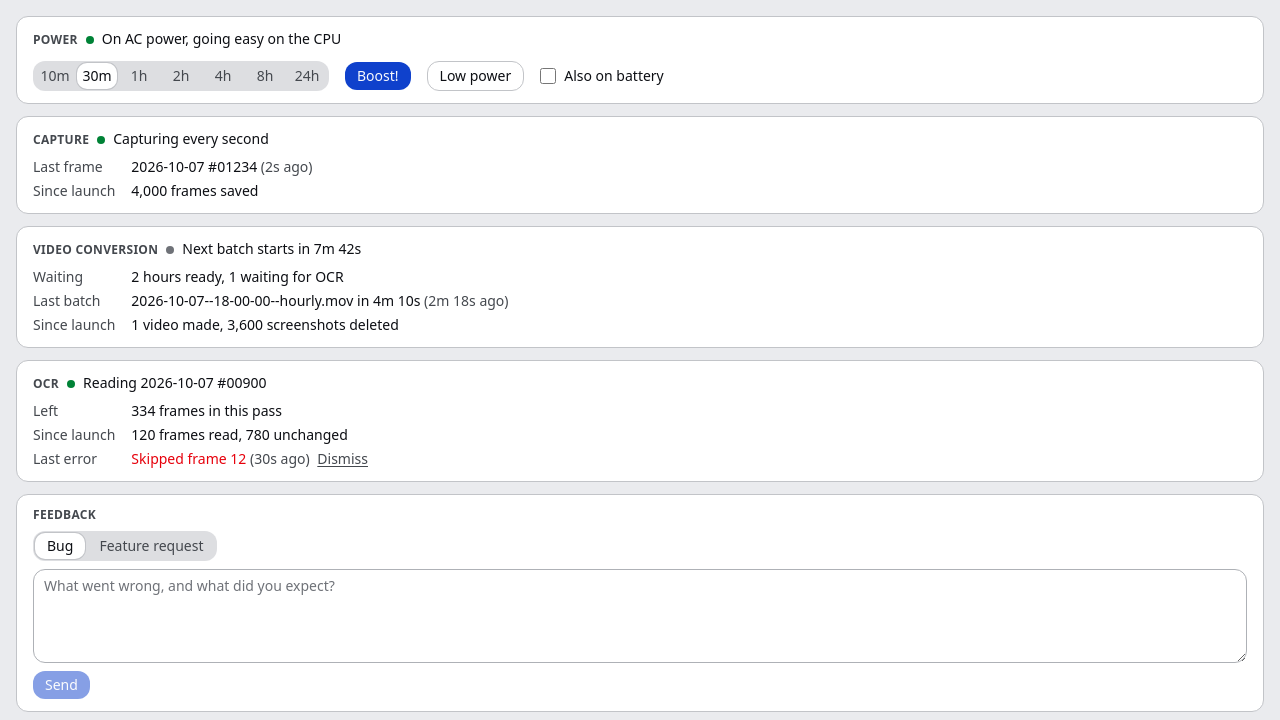
Test: ActivityView › dismisses a last error
The width and height of the screenshot is (1280, 720).
Expected: the text "Skipped frame 12" is shown, [131, 449, 246, 468]
Click the button "Dismiss".
click(343, 459)  # box [313, 449, 372, 469]
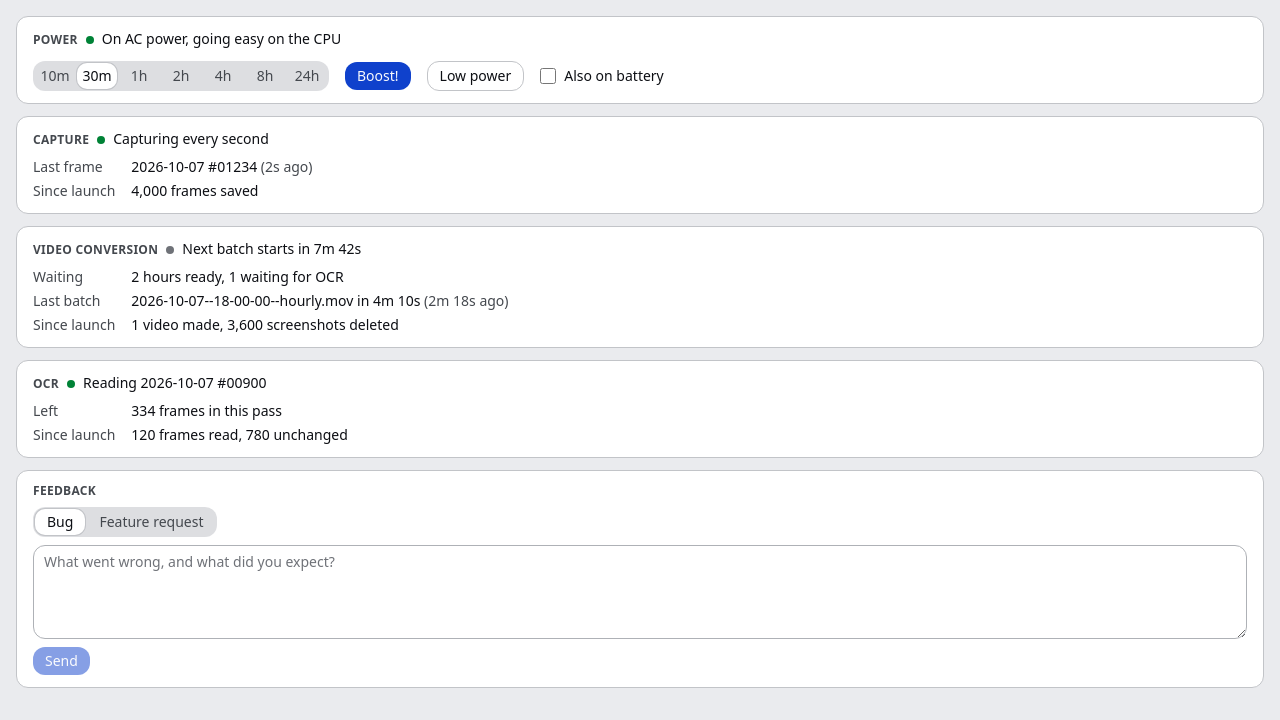
Expected: the text "Skipped frame 12" is gone
